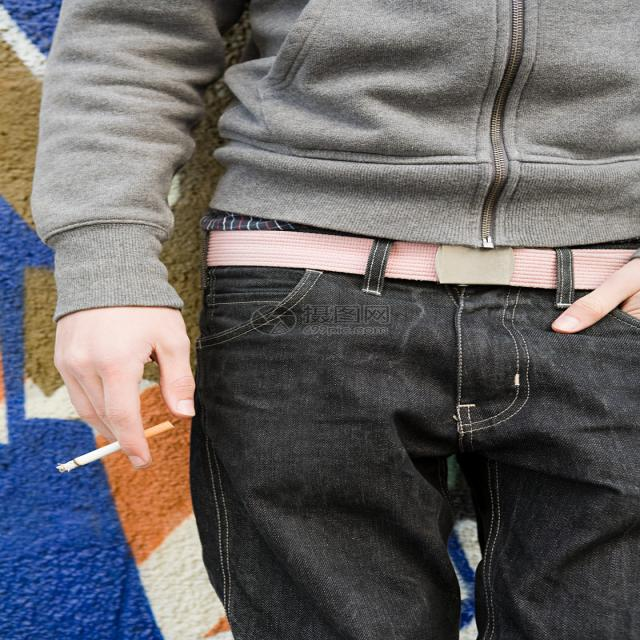cigarette: (41, 408, 181, 479)
